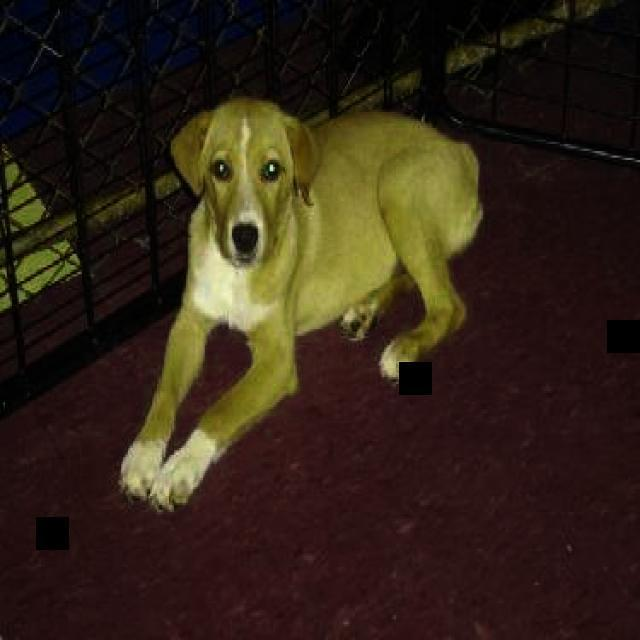puppy-dog: (117, 97, 486, 514)
